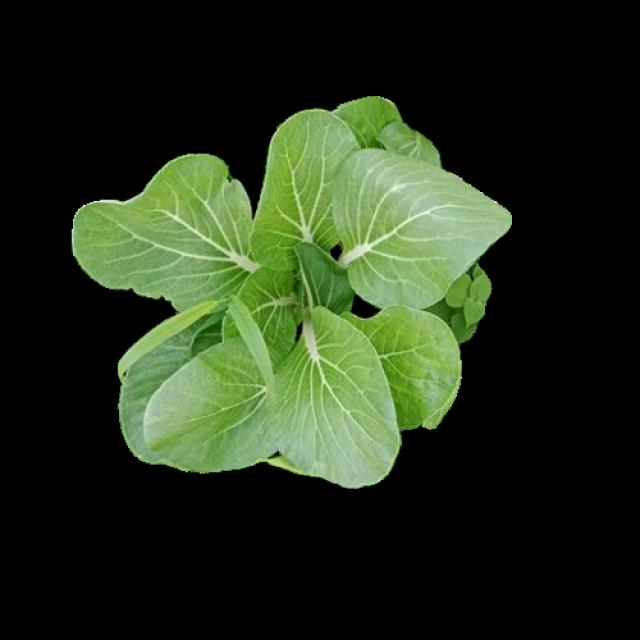healthy: (70, 95, 506, 485)
mature: (73, 97, 508, 488)
